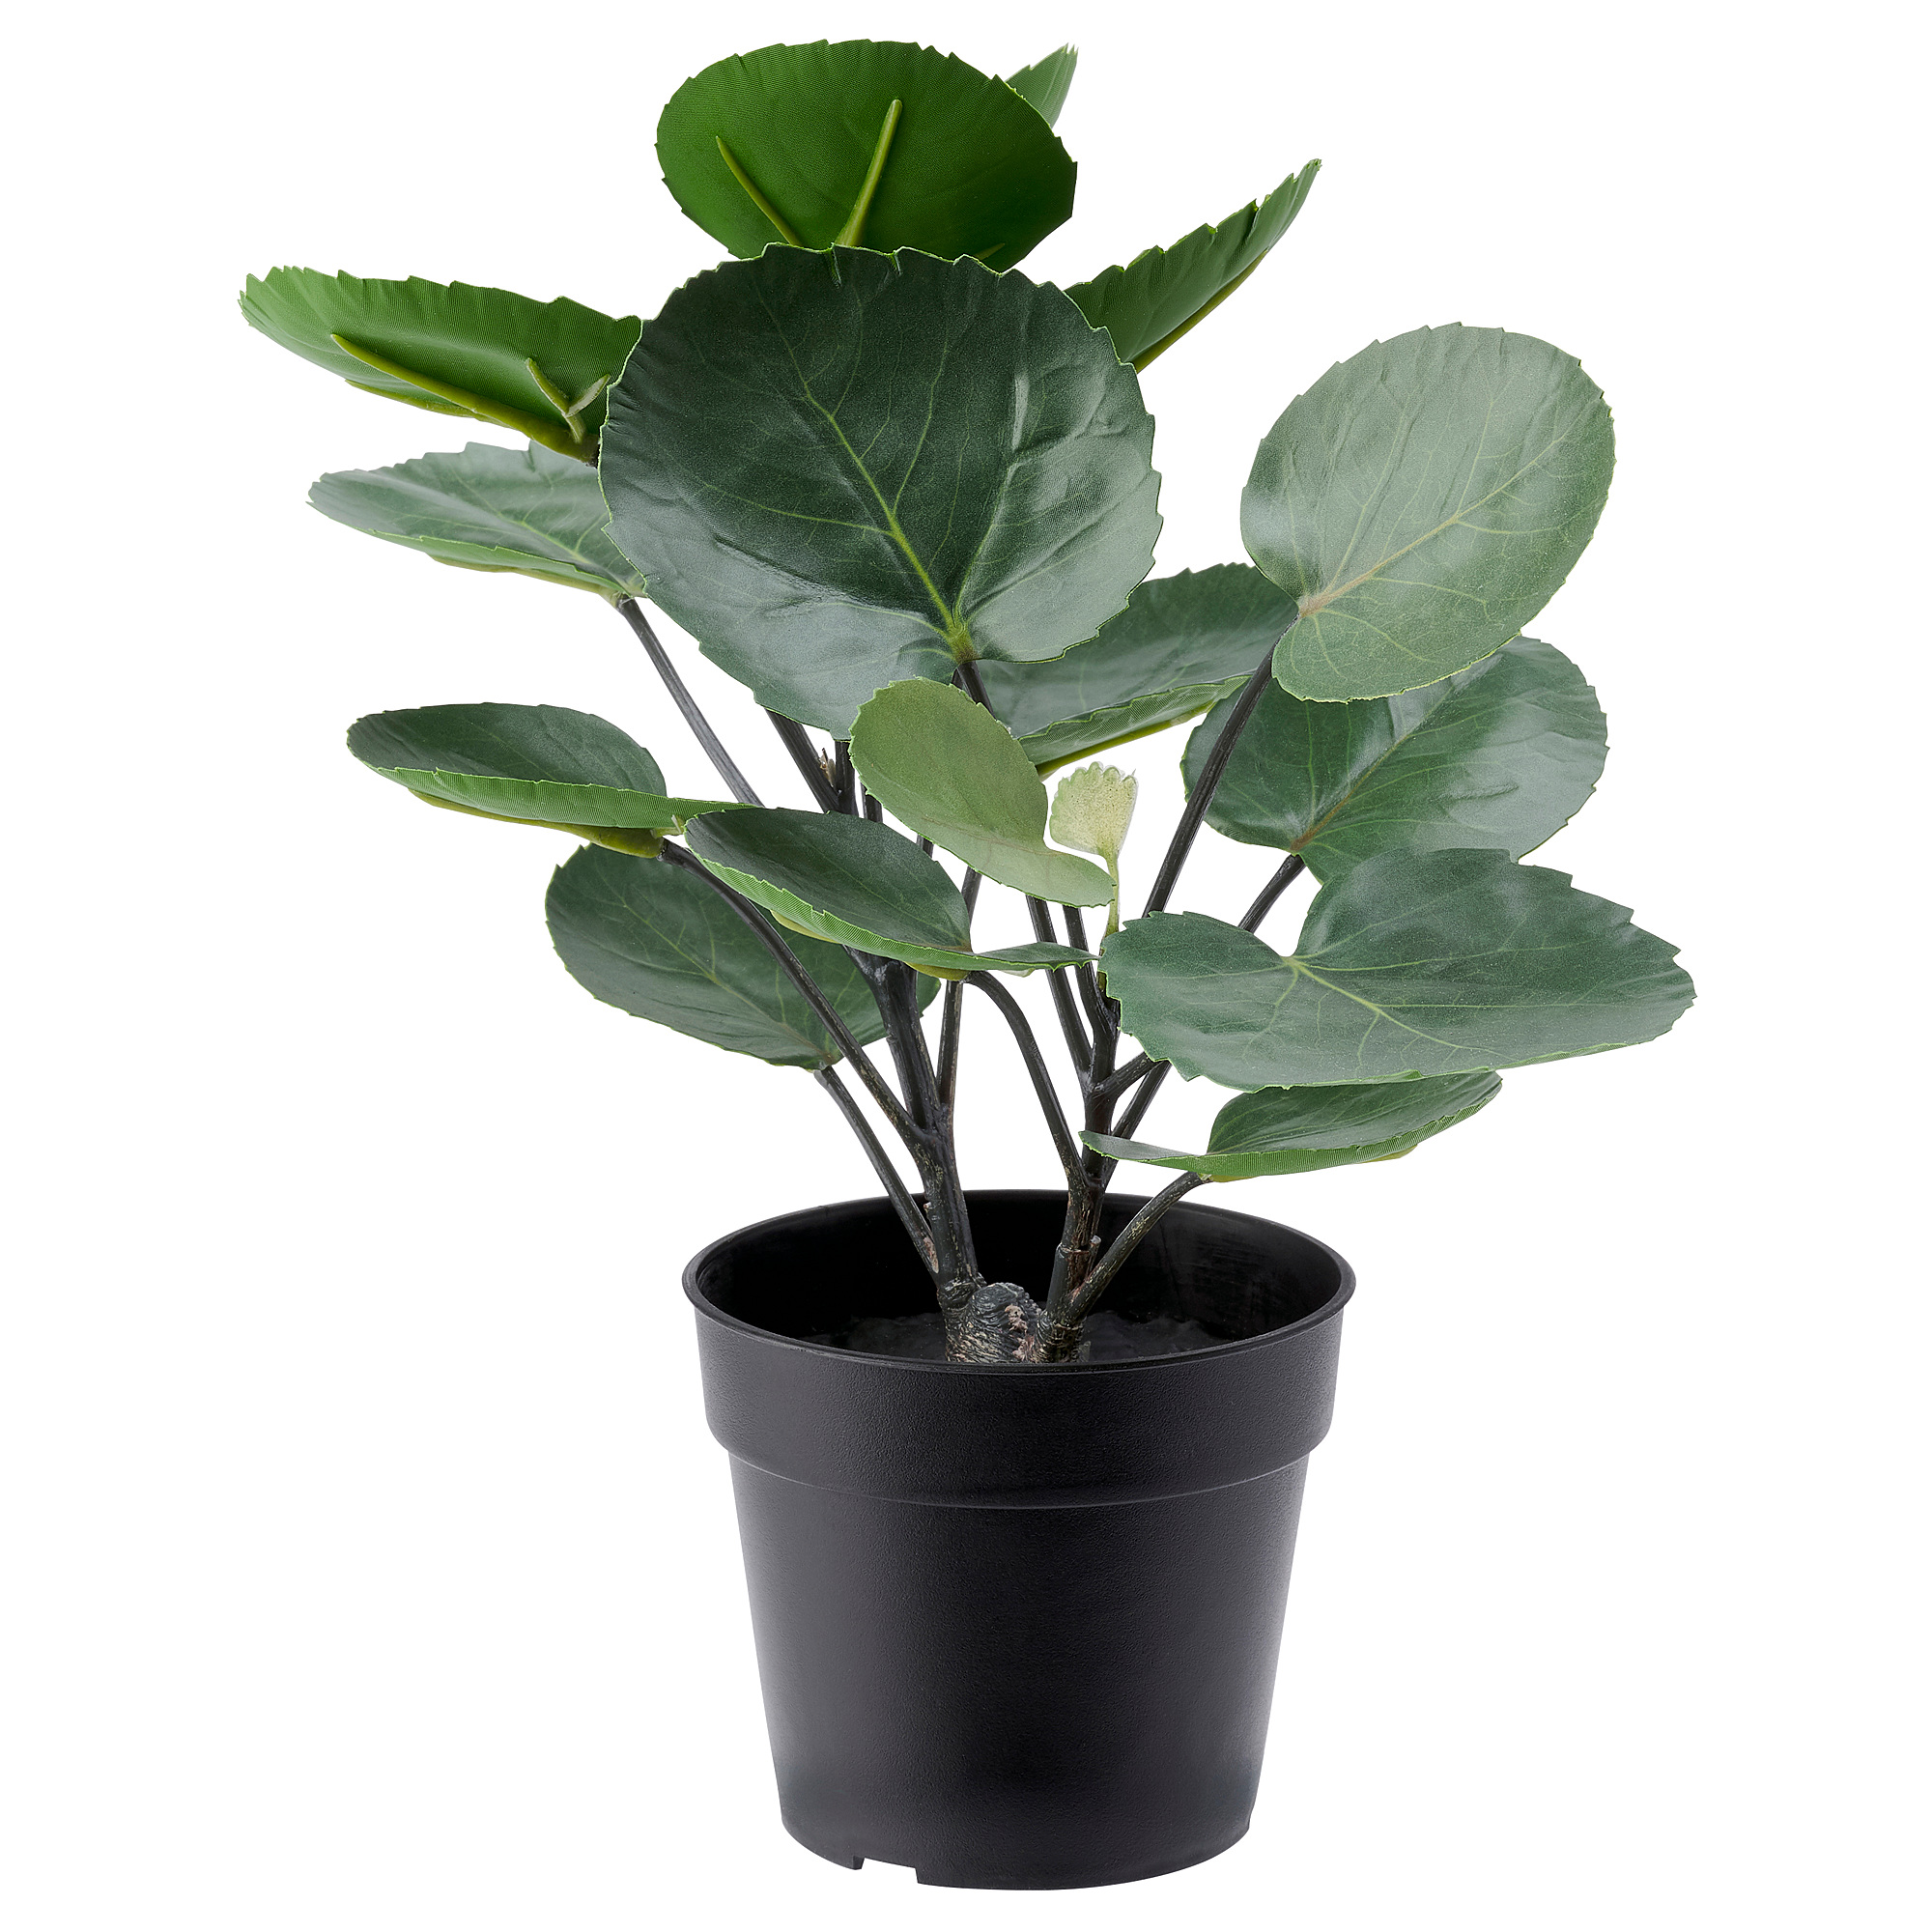tanaman: (317, 9, 1681, 1902)
